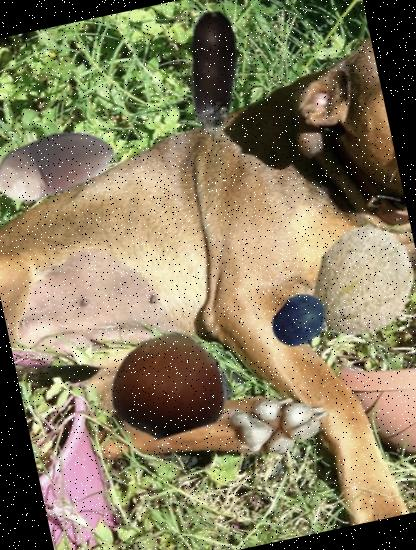Cantaloupe: (295, 215, 416, 350)
Eggplant: (134, 0, 293, 155)
Hazelnut: (0, 91, 128, 239)
Huckleberry: (265, 287, 335, 356)
Nut: (97, 318, 233, 454)
